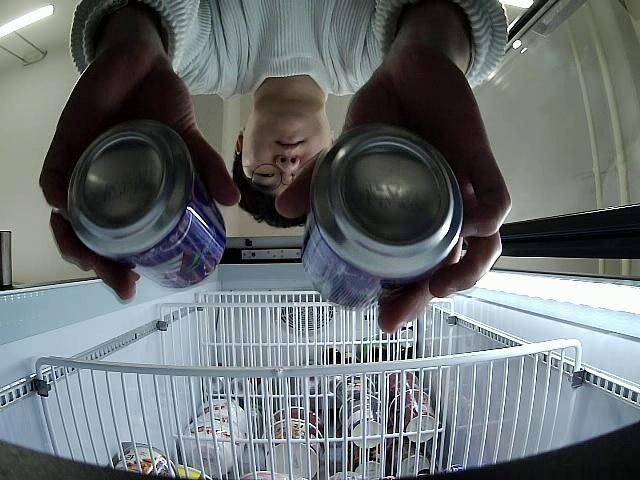14_welchsGrape: (301, 123, 464, 312), (68, 120, 226, 288)
